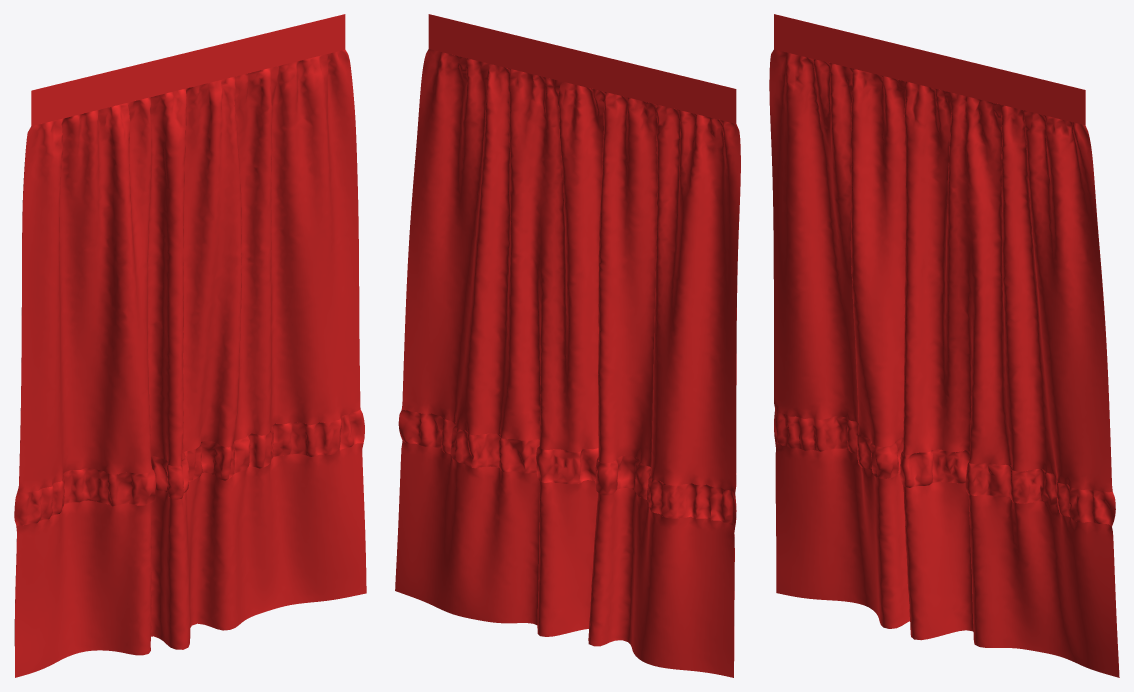
The model's file is curtains.fbx.
3 views of the same model, side by side, from view 1: azimuth 30°, elevation 25°; view 2: azimuth 150°, elevation 25°; view 3: azimuth 330°, elevation 25° (orthographic). The views are drawn at different scales.
Visible parts, largest first — view 1: curtains; view 2: curtains; view 3: curtains.
Part boxes in pixels (x1,y1,x2,y2): curtains: (14, 14, 366, 677); curtains: (395, 14, 740, 677); curtains: (769, 14, 1119, 677).
Size of the model in its own units: 1108 by 1791 by 151.
